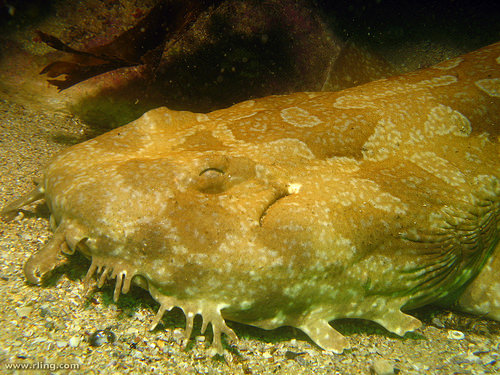shark: (11, 50, 497, 356)
